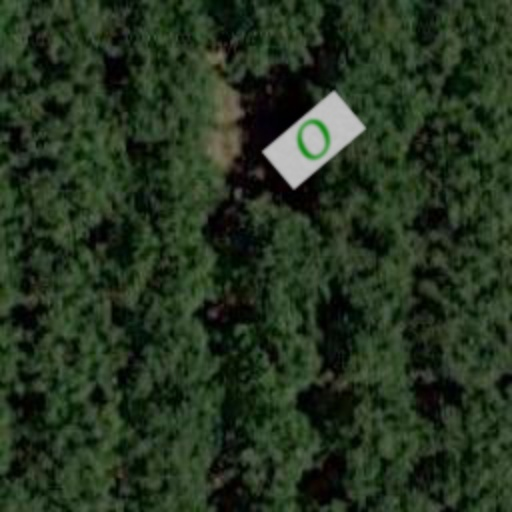rectangle: (246, 72, 382, 208)
